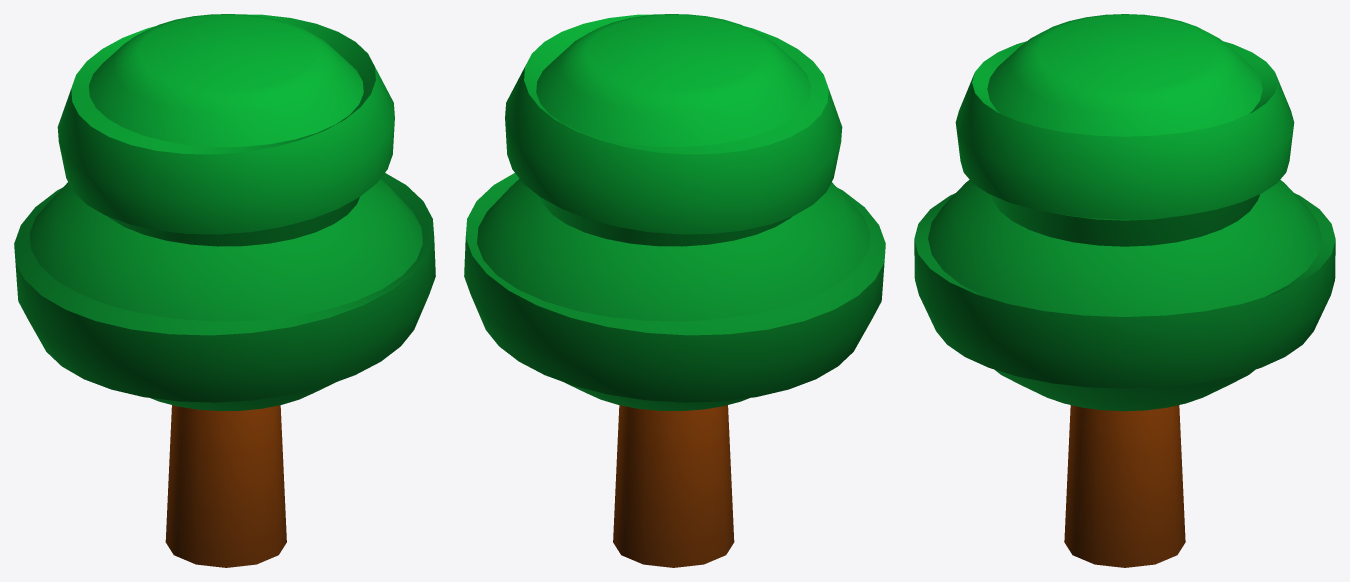
Rendered from Farm_Crop_Tree_01.fbx.
3 views of the same model, side by side, from view 1: azimuth 30°, elevation 25°; view 2: azimuth 150°, elevation 25°; view 3: azimuth 270°, elevation 25° (orthographic).
Visible parts, largest first — view 1: Farm_Crop_Tree_01; view 2: Farm_Crop_Tree_01; view 3: Farm_Crop_Tree_01.
Part boxes in pixels (x1,y1,x2,y2): Farm_Crop_Tree_01: [14, 14, 435, 567]; Farm_Crop_Tree_01: [464, 14, 885, 567]; Farm_Crop_Tree_01: [914, 14, 1335, 567].
Bounding box in the file's own units: 197 × 255 × 196.
